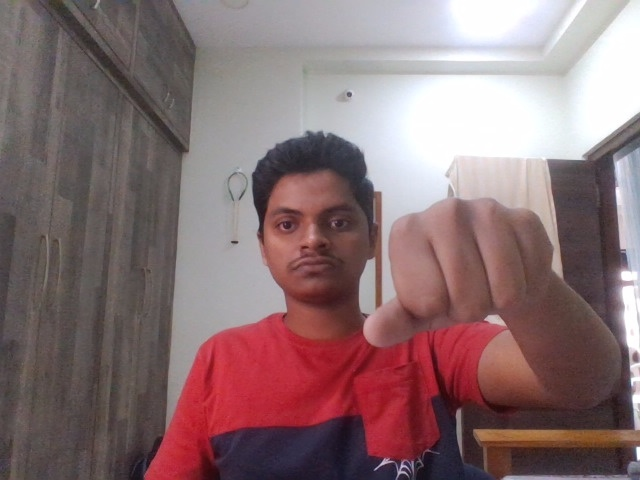Yes: (330, 180, 598, 368)
